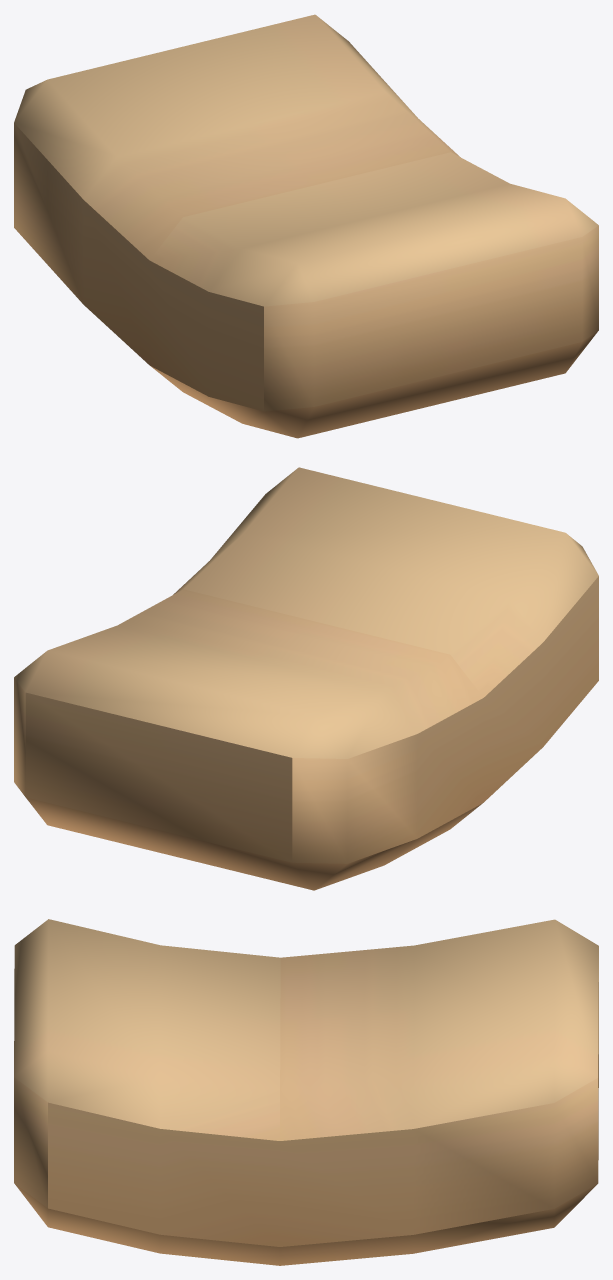
The model's file is sack.glb.
3 views of the same model, one above another, from view 1: azimuth 30°, elevation 25°; view 2: azimuth 150°, elevation 25°; view 3: azimuth 270°, elevation 25° (orthographic).
Visible parts, largest first — view 1: sack; view 2: sack; view 3: sack.
Part boxes in pixels (x1,y1,x2,y2): sack: [14, 14, 598, 438]; sack: [14, 467, 598, 890]; sack: [14, 919, 598, 1265].
Bounding box in the file's own units: 0.1065 × 0.0647 × 0.1595.
1 material, 1 textured.
